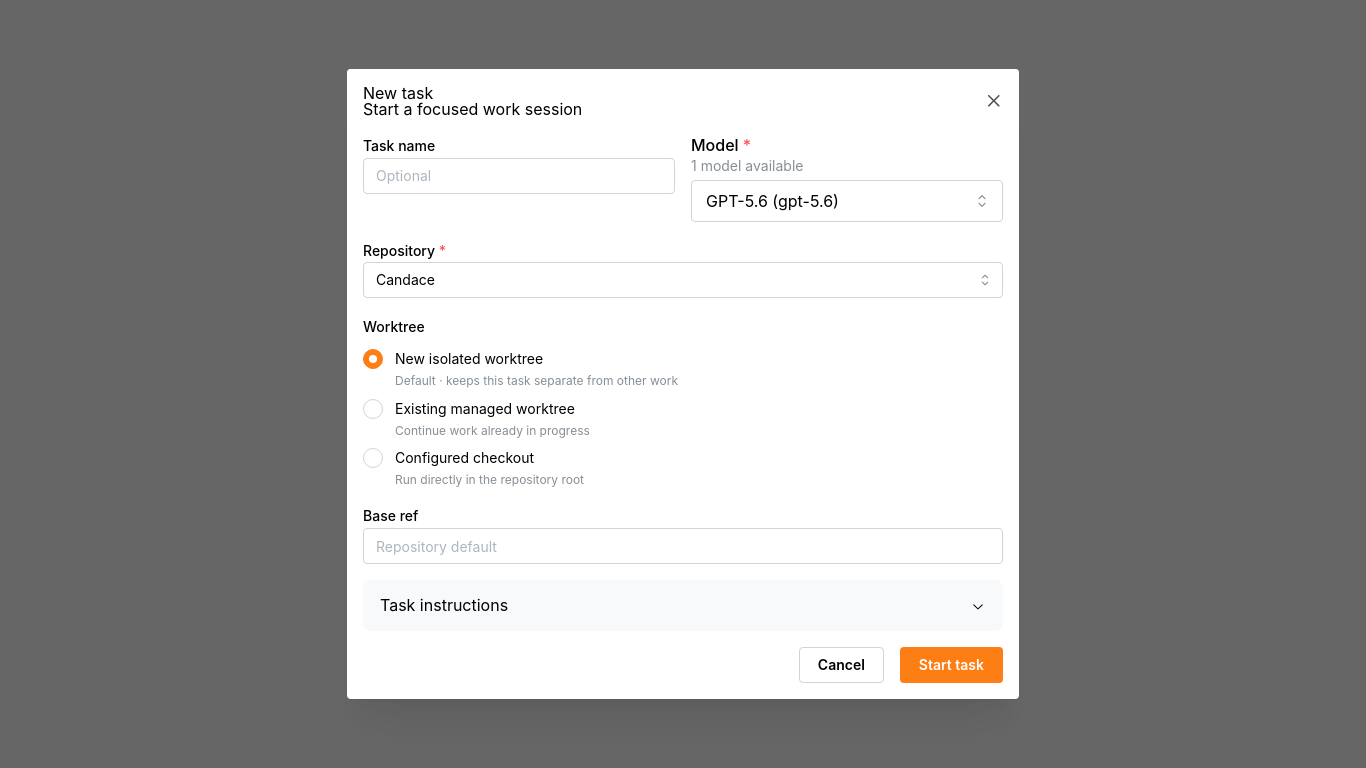
Test: NewSessionDialog › distinguishes local request preparation failure from an ambiguous send
Click the button "Start task": {"x": 951, "y": 665} x1=900 y1=647 x2=1003 y2=683
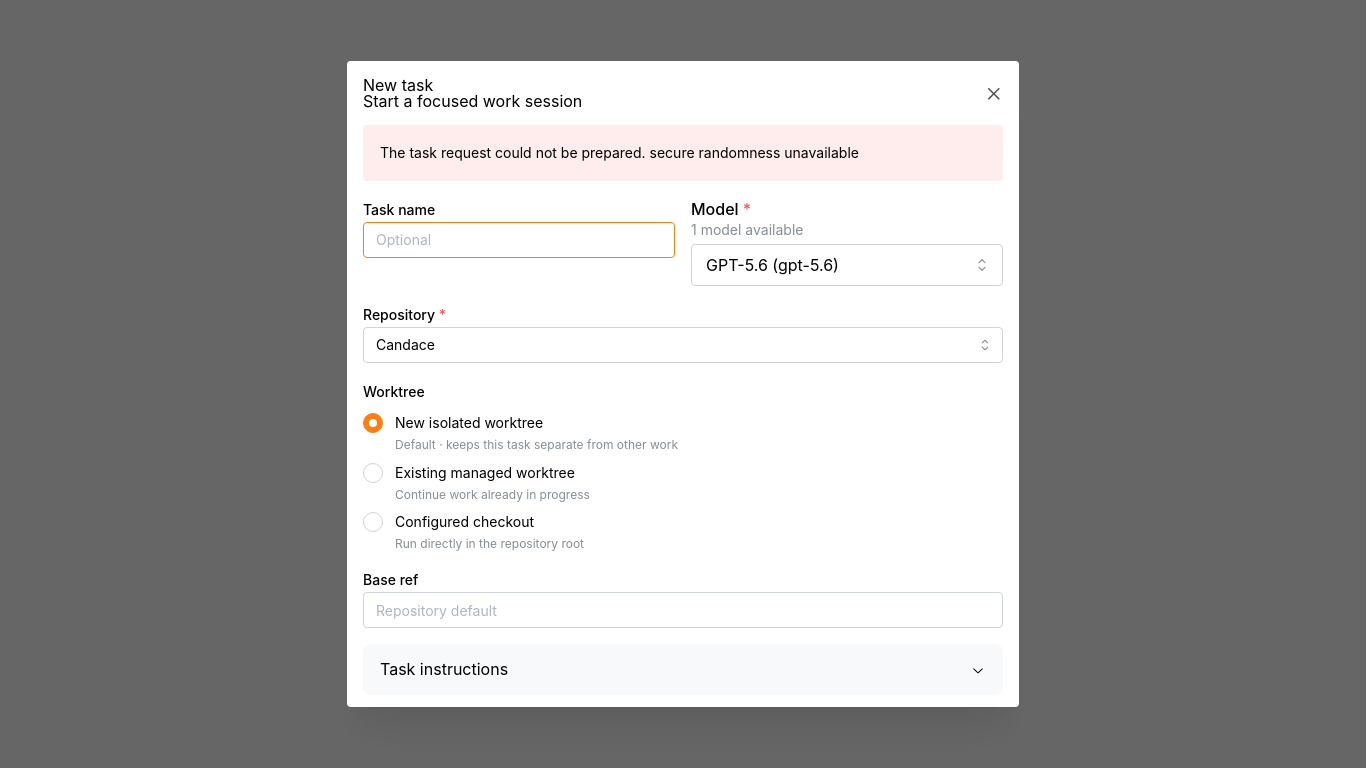
Result: the message reads "The task request could not be prepared. secure randomness unavailable" at x1=380 y1=144 x2=859 y2=161
